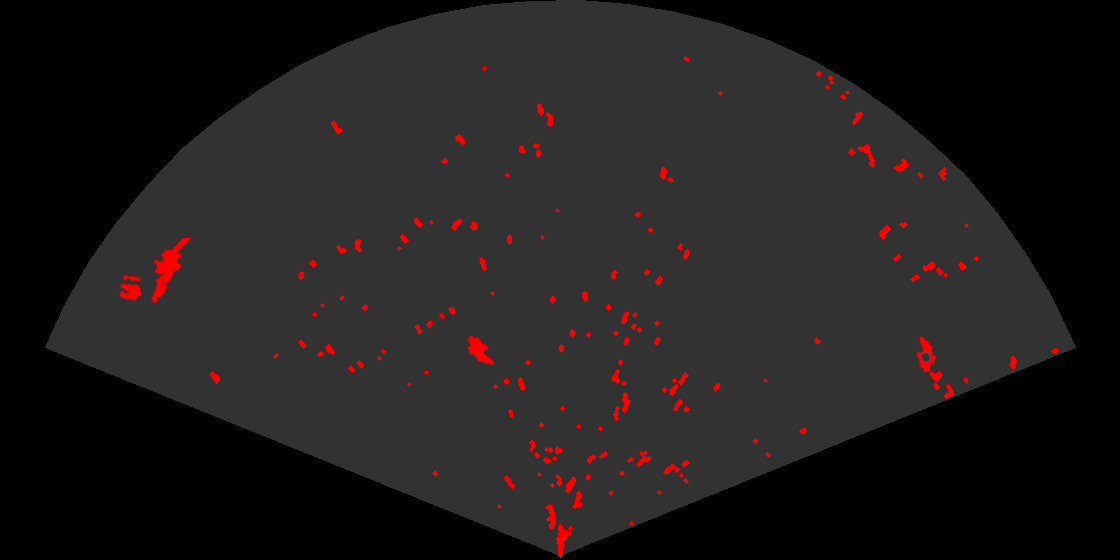AUV: (466, 334, 496, 367), (915, 334, 938, 375)
ball: (117, 273, 143, 302)
frogman: (149, 238, 194, 305)
